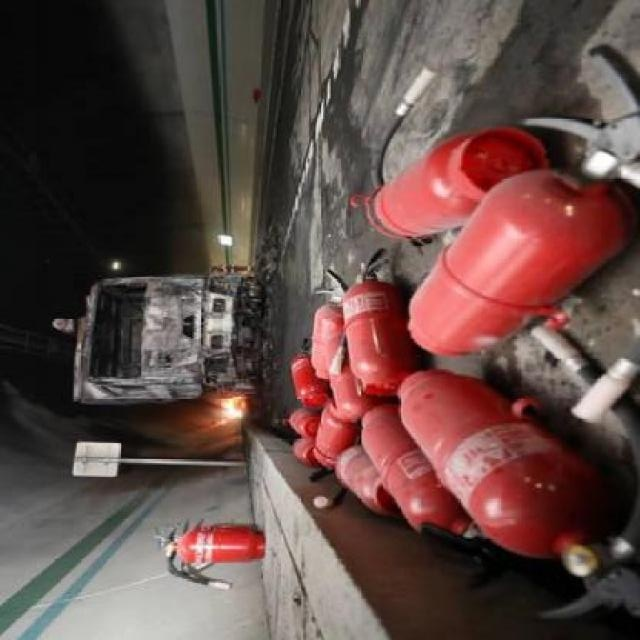fire extinguisher: (406, 45, 640, 357), (395, 325, 640, 621), (348, 64, 552, 247), (361, 405, 519, 586), (331, 246, 415, 397), (157, 523, 266, 586), (313, 437, 402, 514), (323, 316, 380, 416), (308, 402, 360, 483), (311, 269, 346, 380), (291, 336, 332, 409), (288, 407, 320, 441), (293, 436, 324, 469)
